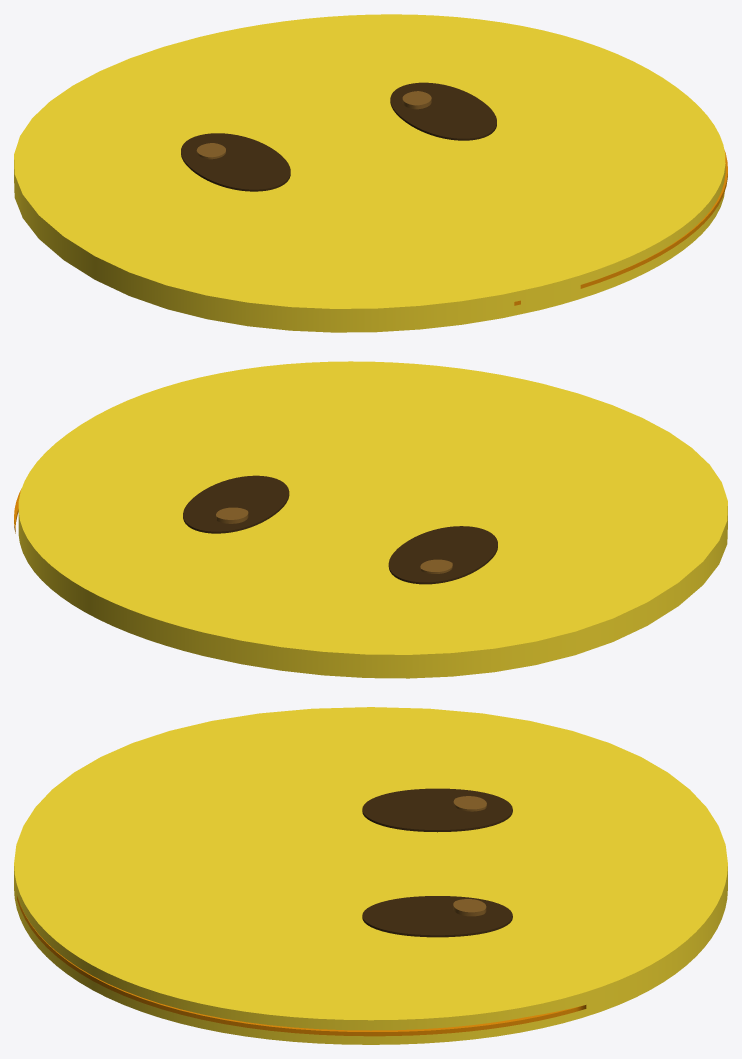
File: emoji_u1f632.glb
3 renders of one model, top to bottom at view 1: azimuth 30°, elevation 25°; view 2: azimuth 150°, elevation 25°; view 3: azimuth 270°, elevation 25°, orthographic. The views are drawn at different scales.
Visible parts, largest first — view 1: emoji_u1f632; view 2: emoji_u1f632; view 3: emoji_u1f632.
Boxes of the visible parts, x1=… form: emoji_u1f632: x1=14, y1=14, x2=727, y2=332; emoji_u1f632: x1=14, y1=361, x2=727, y2=678; emoji_u1f632: x1=14, y1=707, x2=727, y2=1044.
Size of the model in its own units: 0.0327 by 0.0018 by 0.0314.
